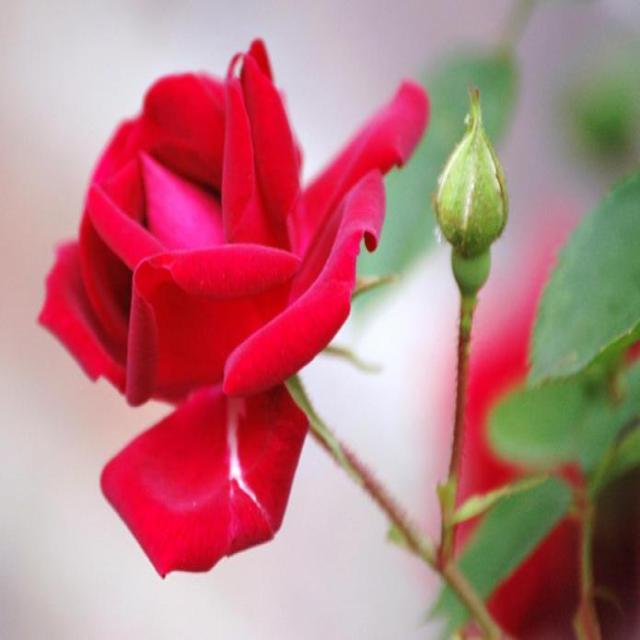rose: (40, 26, 435, 582)
